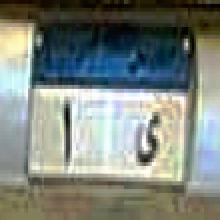1: (61, 94, 75, 170)
yaa: (132, 105, 162, 169)
